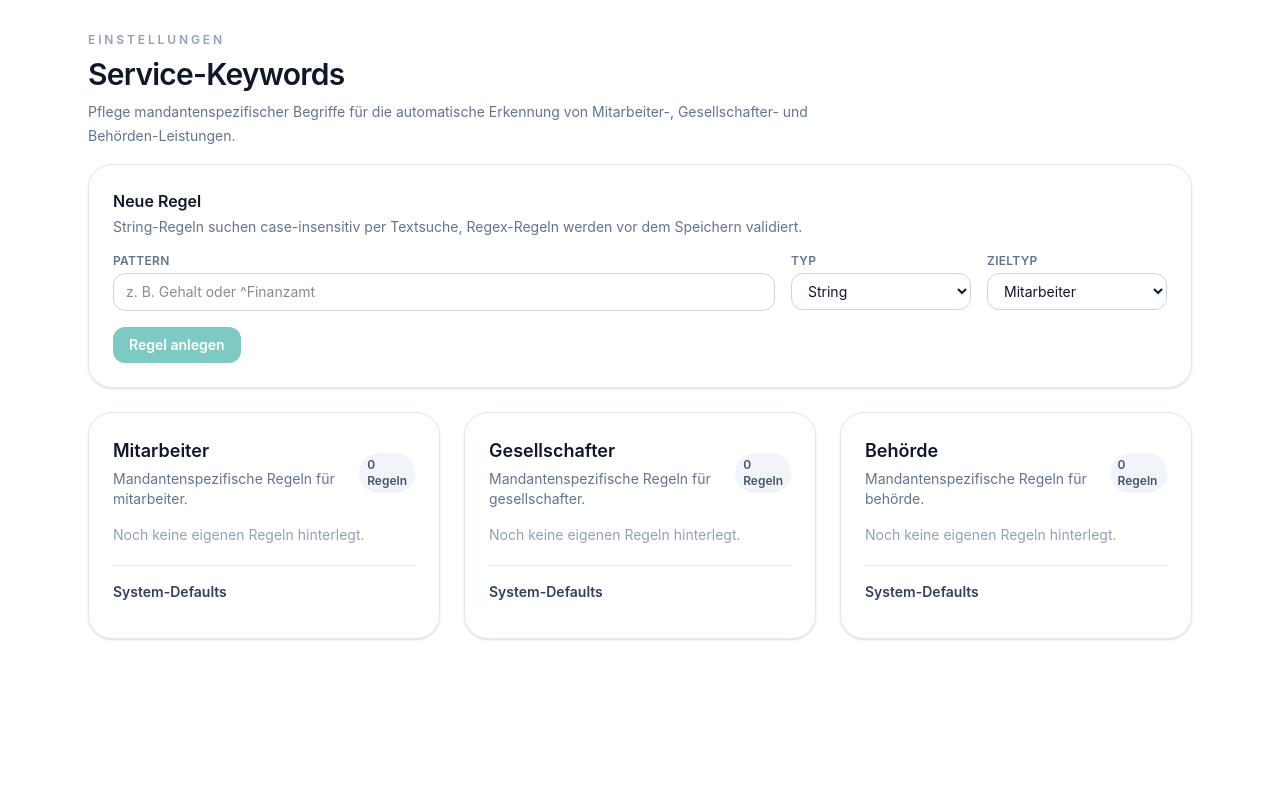
Test case: ServiceKeywordSettingsPage › blocks invalid regex and shows inline validation
Check: the heading "Service-Keywords" is shown, box x1=88 y1=56 x2=344 y2=92
Step 1. Type "(" into the field labelled "Pattern" → (444, 292), box x1=113 y1=273 x2=775 y2=311
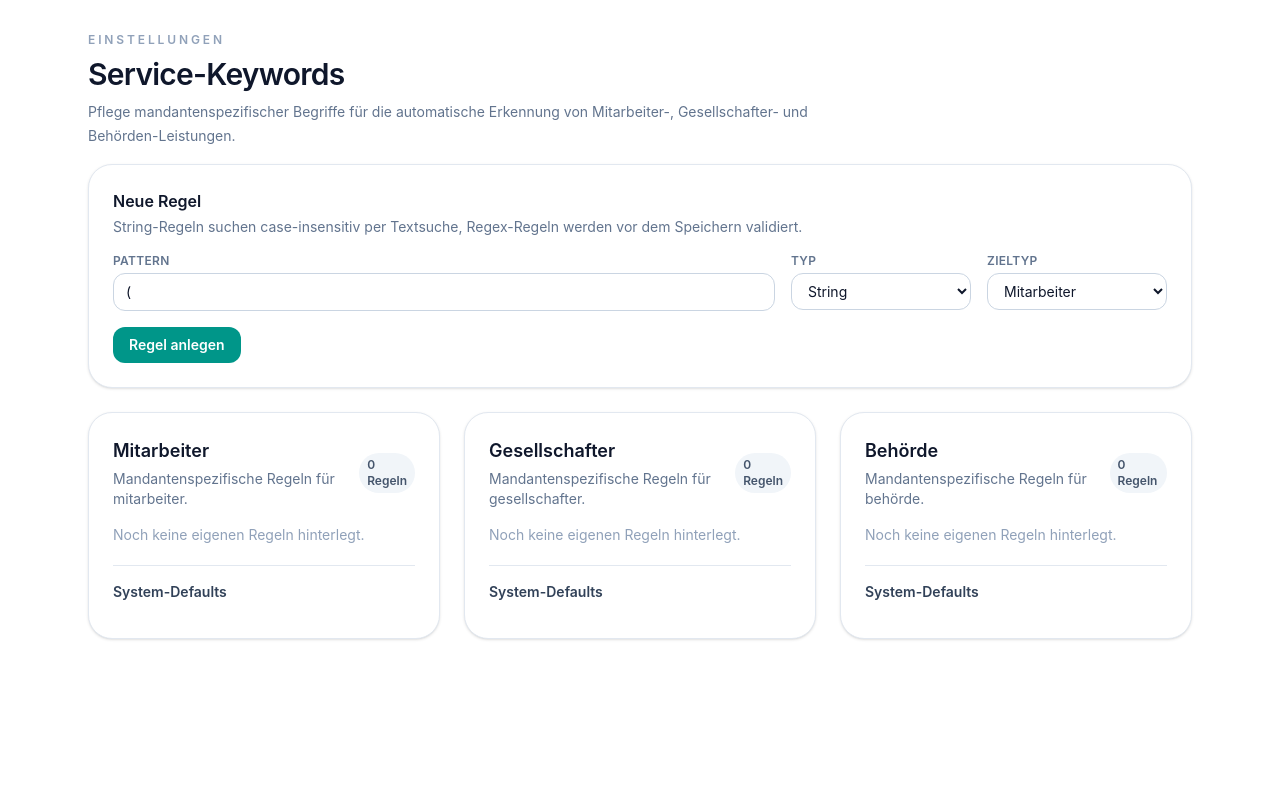
Step 2. Select "Regex" in the dropdown labelled "Typ" → (881, 292), box x1=791 y1=273 x2=971 y2=310
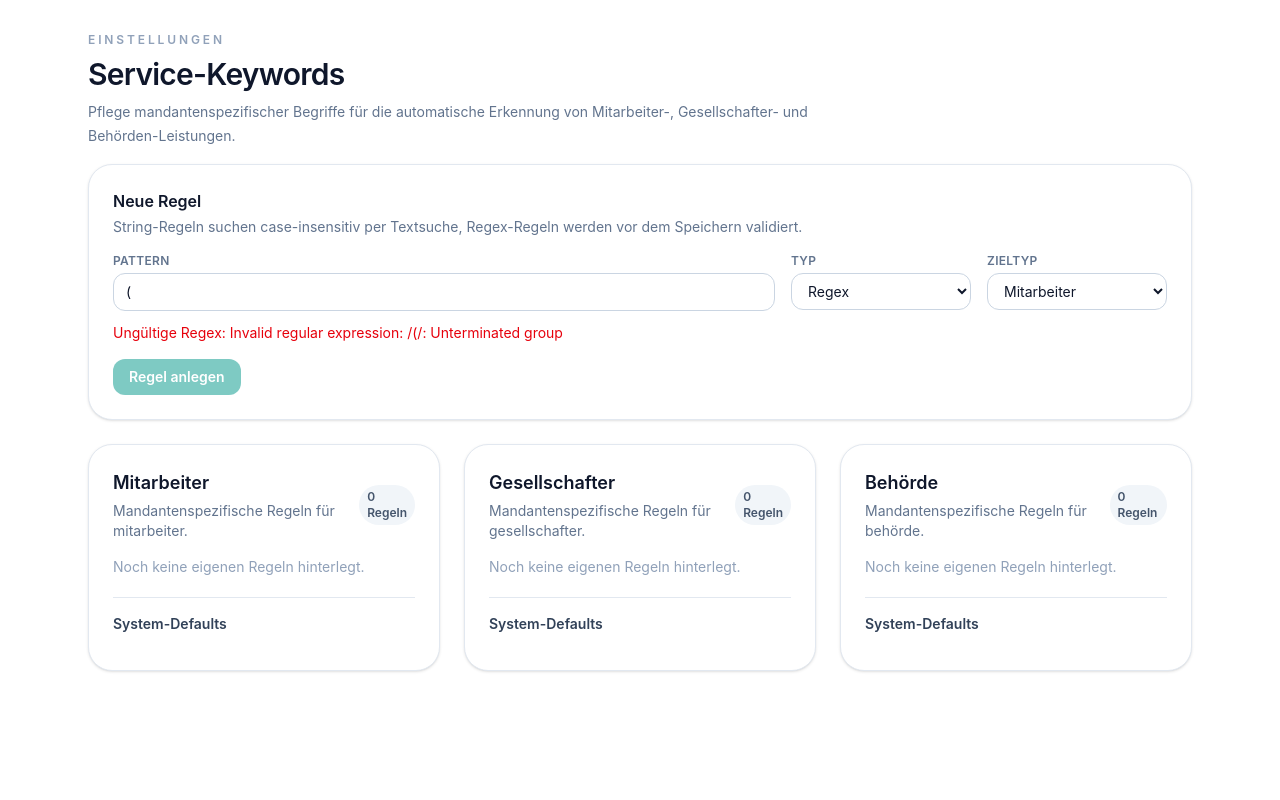
Check: the text "Ungültige Regex" is shown, box x1=113 y1=324 x2=230 y2=341
Check: the button "Regel anlegen" is disabled, box x1=113 y1=359 x2=241 y2=395
